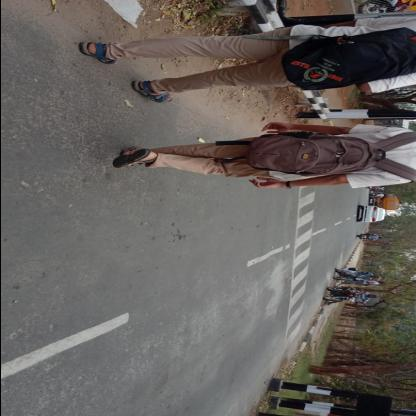speed-bumps: (284, 190, 326, 353)
